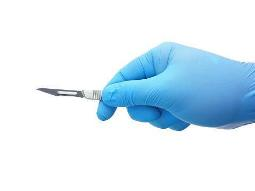scalpel: (34, 88, 104, 102)
